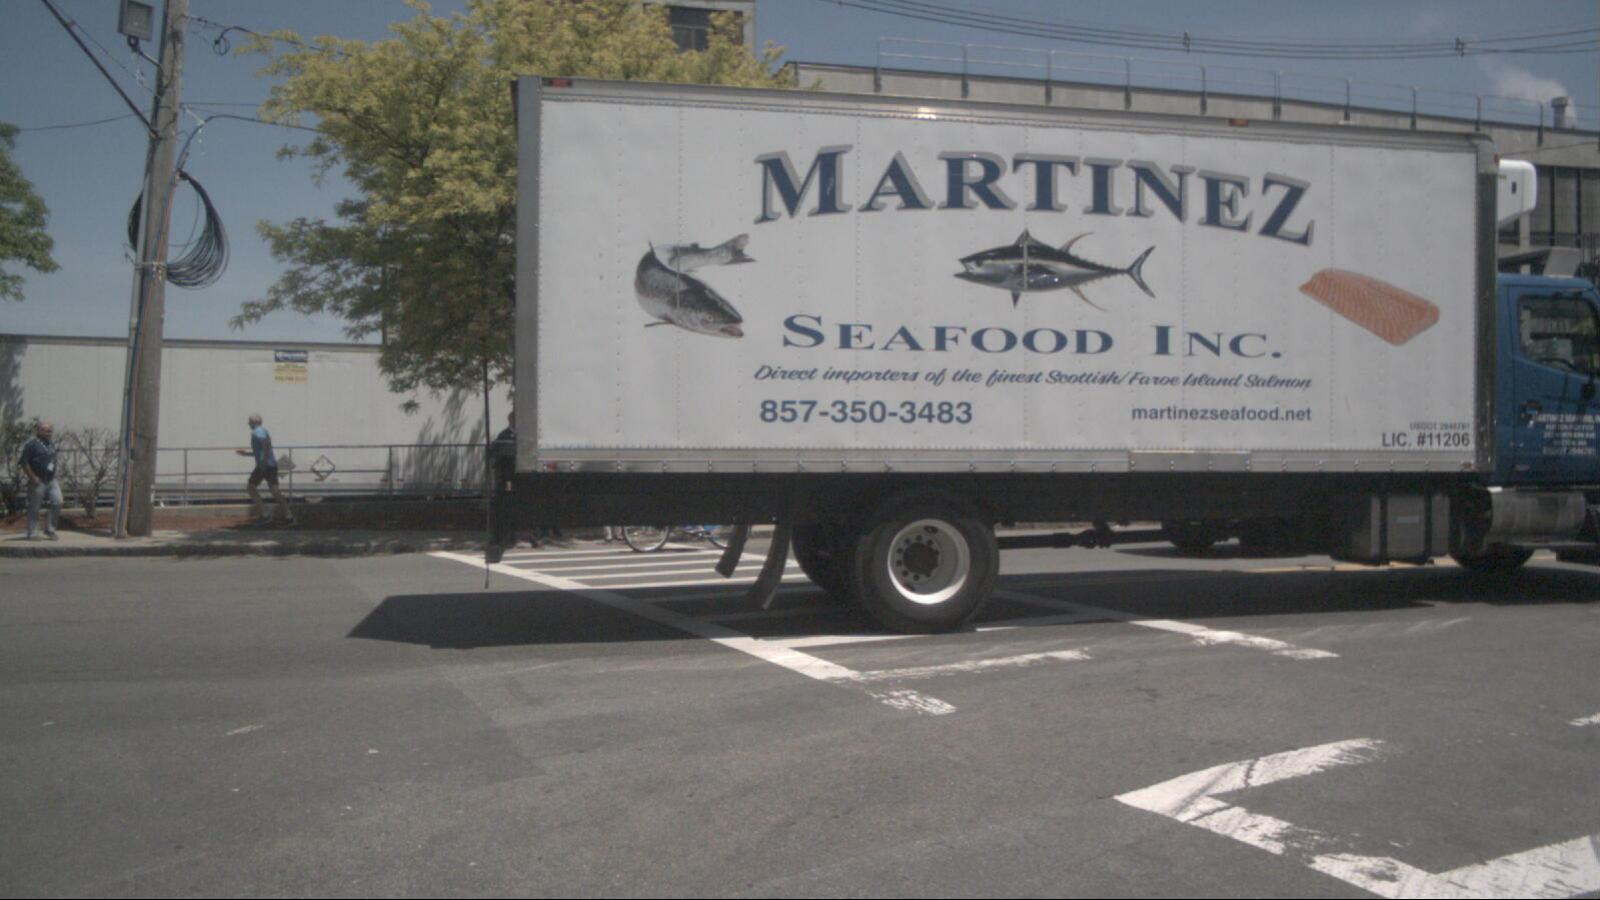human.pedestrian.adult-pedestrian.moving: (235, 413, 299, 531), (16, 423, 66, 541)
human.pedestrian.adult-pedestrian.standing: (494, 411, 528, 532)
vehicle.bicycle-cycle.with_rider: (618, 439, 754, 554)
